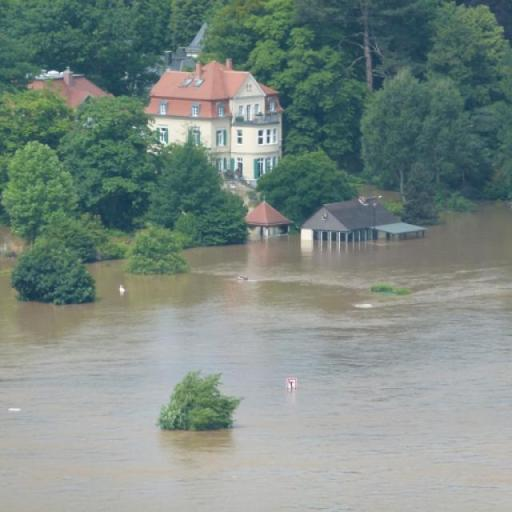flood: (0, 206, 512, 512)
house: (137, 61, 297, 185), (300, 196, 428, 241), (246, 194, 292, 238)
